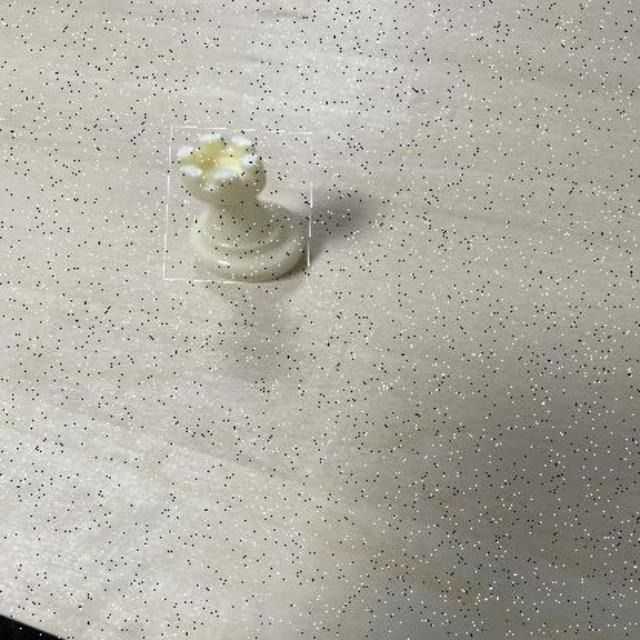white-rook: (166, 128, 312, 282)
